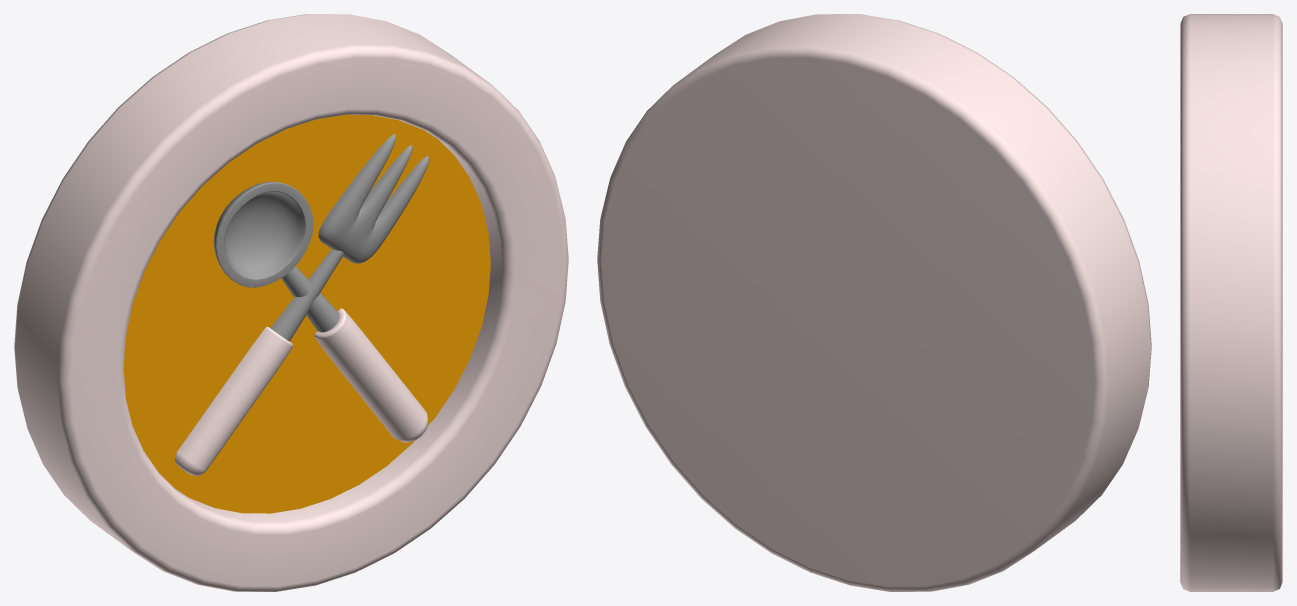
Rendered from Store_20_Restaurant_Sign_2.glb.
3 views of the same model, side by side, from view 1: azimuth 30°, elevation 25°; view 2: azimuth 150°, elevation 25°; view 3: azimuth 270°, elevation 25° (orthographic).
Visible parts, largest first — view 1: Store_20_Restaurant_Sign_2; view 2: Store_20_Restaurant_Sign_2; view 3: Store_20_Restaurant_Sign_2.
Boxes of the visible parts, x1,y1,x2,y2 form: Store_20_Restaurant_Sign_2: (14, 14, 568, 591); Store_20_Restaurant_Sign_2: (597, 14, 1151, 591); Store_20_Restaurant_Sign_2: (1180, 14, 1282, 591).
Size of the model in its own units: 2.16 by 2.16 by 0.3816.
Materials: 1 (1 with a texture image).
